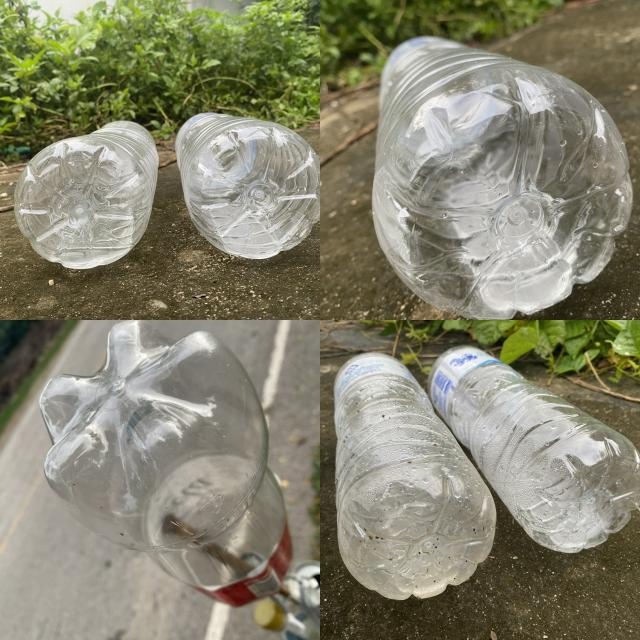plastik: (372, 38, 632, 318), (41, 321, 291, 606), (429, 346, 640, 552), (335, 355, 496, 600), (175, 112, 320, 259), (15, 122, 159, 268)
